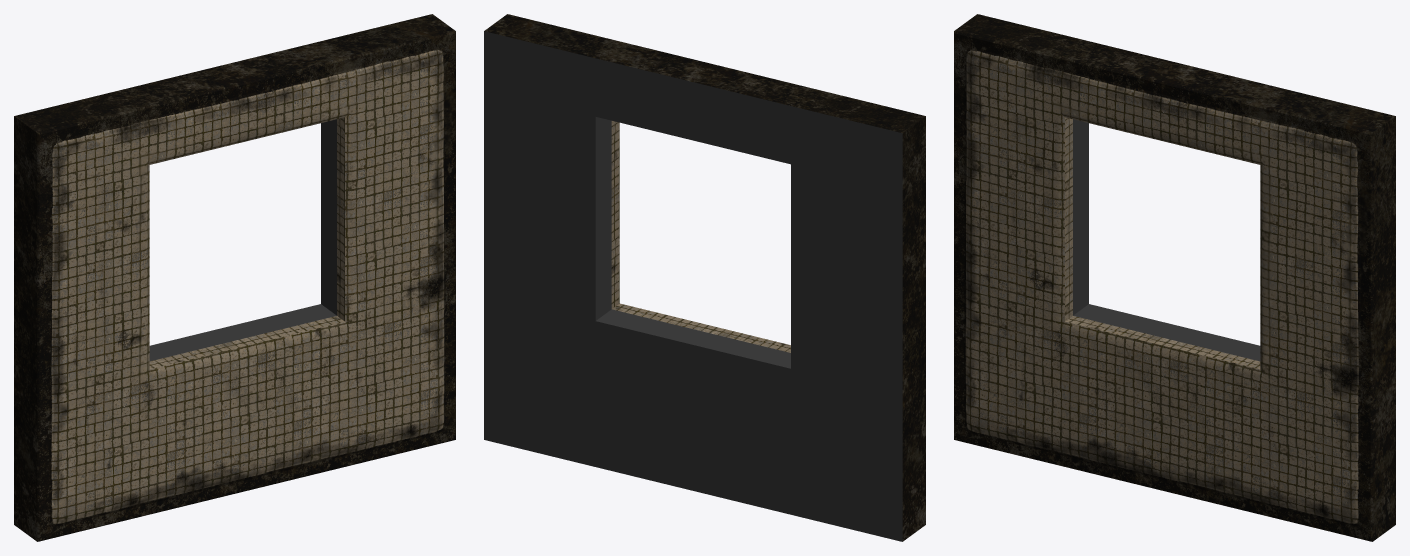
The model's file is SM_WallWindowHallway03.FBX.
The picture shows the model from 3 angles, left to right: view 1: azimuth 30°, elevation 25°; view 2: azimuth 150°, elevation 25°; view 3: azimuth 330°, elevation 25°; orthographic projection.
Parts seen in each view (by area): view 1: SM_WallWindowHallway03_LOD0; view 2: SM_WallWindowHallway03_LOD0; view 3: SM_WallWindowHallway03_LOD0.
Part boxes in pixels (x1,y1,x2,y2): SM_WallWindowHallway03_LOD0: [14, 14, 455, 541]; SM_WallWindowHallway03_LOD0: [484, 14, 925, 541]; SM_WallWindowHallway03_LOD0: [954, 14, 1395, 541].
Bounding box in the file's own units: 300 × 31.79 × 280.
